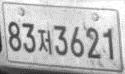1: (103, 27, 114, 60)
2: (85, 27, 101, 59)
3: (52, 24, 68, 56), (22, 22, 36, 53)
6: (70, 25, 84, 57)
8: (7, 21, 22, 52)
저: (37, 29, 52, 55)
